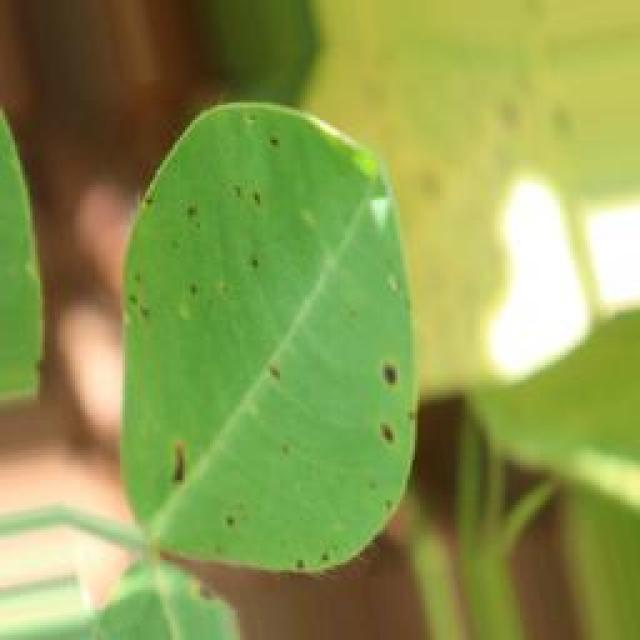Sigatoka: (125, 267, 174, 344), (359, 485, 418, 540), (281, 531, 345, 573), (361, 404, 405, 455), (158, 422, 190, 492), (262, 360, 306, 410), (368, 354, 408, 407), (168, 180, 208, 233), (120, 180, 165, 224), (243, 132, 299, 164), (232, 175, 266, 226), (216, 492, 252, 540), (176, 272, 207, 323), (245, 242, 267, 287)
